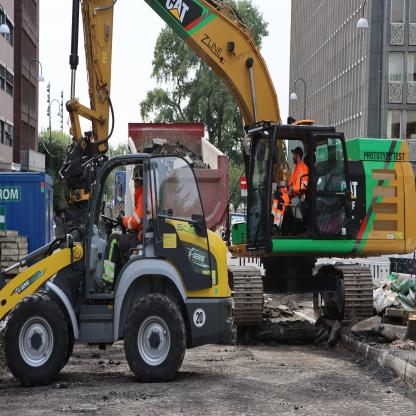excavator: (63, 0, 416, 367)
